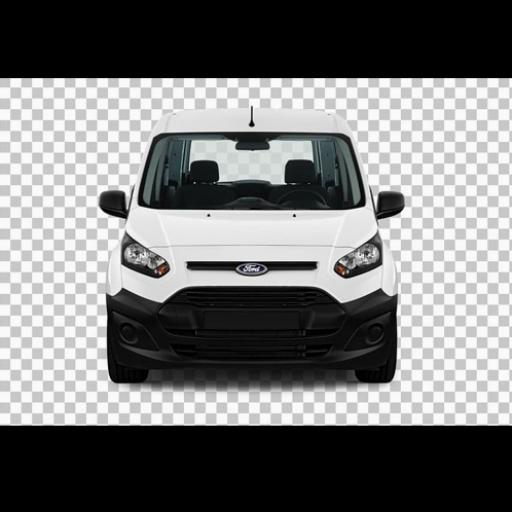van: (100, 107, 403, 380)
